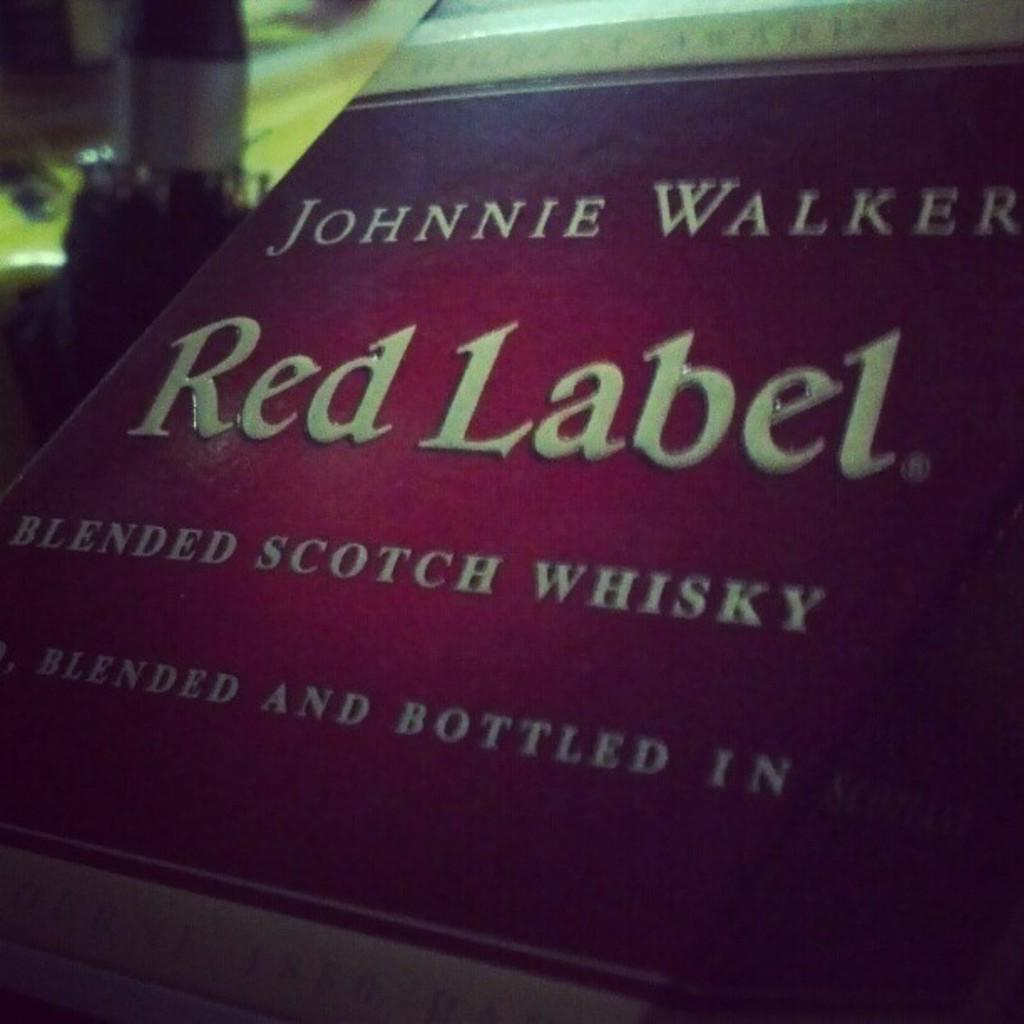Book: (10, 0, 1024, 1024)
